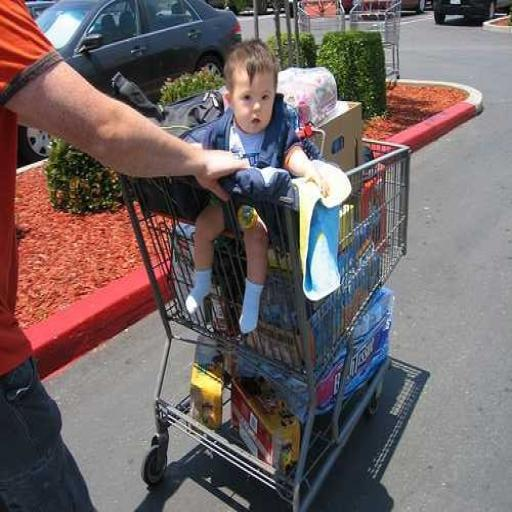shopping_cart: (112, 134, 412, 512)
